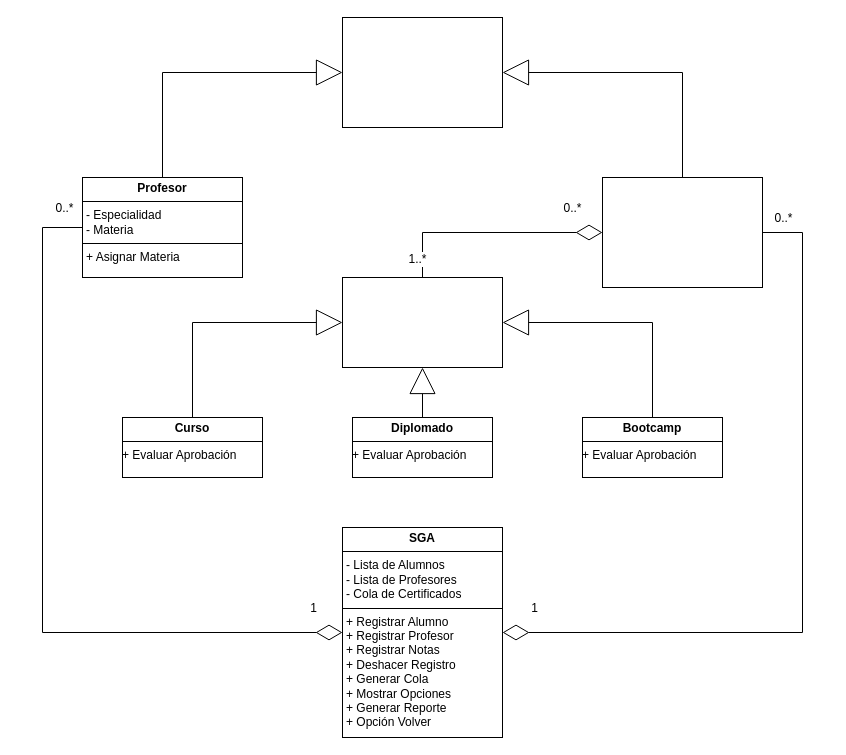
Image size: 846x755. Some labels were removed from this diagram. The box of each missing label's shape, as (x1, y1, x2, y2) in pixels:
Alumn - Programa - Lista de Notas + Registrar_Nota + Consultar Promedio: (602, 176, 762, 288)
Persona - Cedula - Nombre - Correo + Tipo de programa: (342, 16, 502, 128)
Programa Academico - Nombre del Programa + Evaluar Programa: (342, 276, 502, 368)
